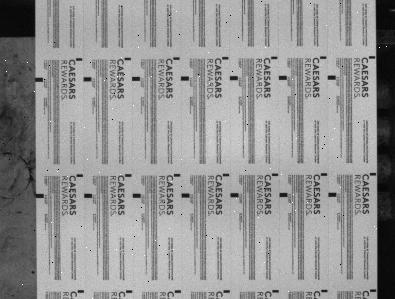qblock: (280, 193, 289, 198), (132, 77, 140, 82), (84, 77, 92, 82), (230, 76, 238, 81), (231, 193, 239, 198), (279, 76, 288, 80), (181, 77, 190, 81), (328, 76, 336, 80), (84, 194, 92, 198), (133, 194, 141, 198), (35, 78, 43, 82), (182, 194, 190, 198), (329, 193, 337, 197), (35, 194, 43, 198)
smallqblock: (272, 173, 279, 177), (273, 290, 280, 294), (272, 56, 278, 60), (77, 174, 83, 178), (76, 58, 83, 61), (125, 174, 132, 177), (174, 174, 181, 177), (223, 174, 230, 177), (77, 291, 84, 294), (175, 291, 182, 294), (224, 291, 231, 294), (126, 291, 133, 294), (174, 57, 180, 60), (223, 57, 229, 60), (370, 56, 376, 59), (321, 173, 327, 176), (371, 173, 377, 176), (322, 290, 328, 293), (371, 290, 377, 293), (125, 58, 131, 61), (320, 57, 327, 59)
